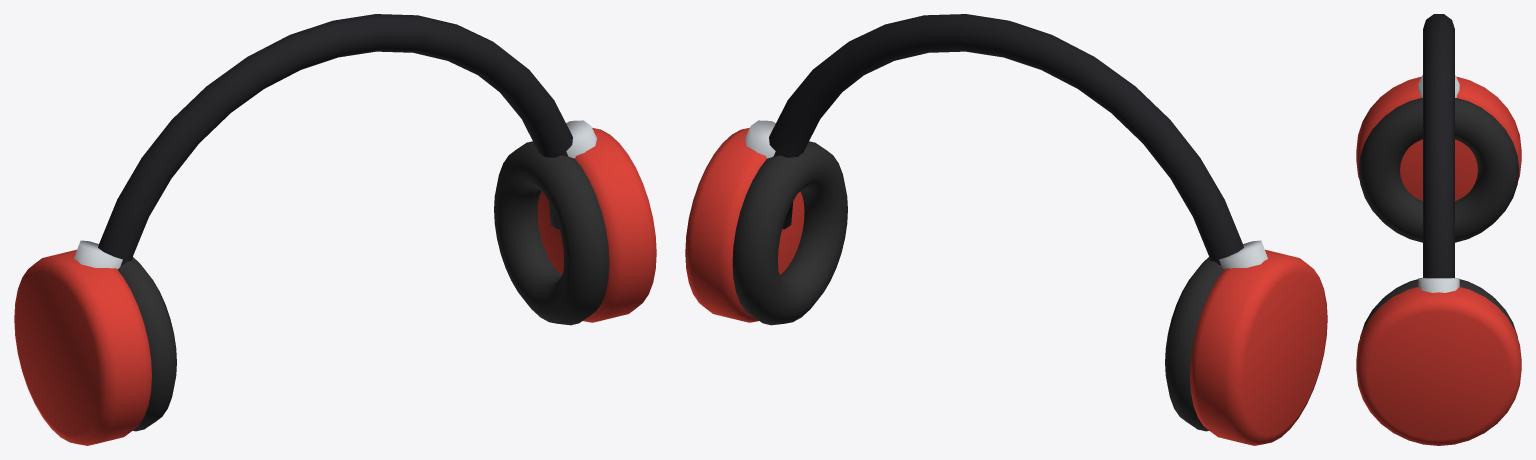
Rendered from cosmetics-headphones.glb.
The picture shows the model from 3 angles, left to right: view 1: azimuth 30°, elevation 25°; view 2: azimuth 150°, elevation 25°; view 3: azimuth 270°, elevation 25°; orthographic projection. The views are drawn at different scales.
Parts seen in each view (by area): view 1: Headphones__Cups, Headphones__Band, Headphones__Cushions, Headphones__Sliders; view 2: Headphones__Cups, Headphones__Band, Headphones__Cushions, Headphones__Sliders; view 3: Headphones__Cups, Headphones__Cushions, Headphones__Band, Headphones__Sliders.
Part boxes in pixels (x1,y1,x2,y2): Headphones__Cups: (14,127,656,445); Headphones__Band: (98,14,572,265); Headphones__Cushions: (117,141,609,431); Headphones__Sliders: (74,120,596,269); Headphones__Cups: (685,127,1327,445); Headphones__Band: (769,14,1243,265); Headphones__Cushions: (732,141,1224,431); Headphones__Sliders: (745,120,1267,269); Headphones__Cups: (1356,76,1521,445); Headphones__Cushions: (1358,98,1519,337); Headphones__Band: (1423,14,1454,278); Headphones__Sliders: (1418,75,1459,292).
Bounding box in the file's own units: 2.38 × 1.44 × 0.72.
